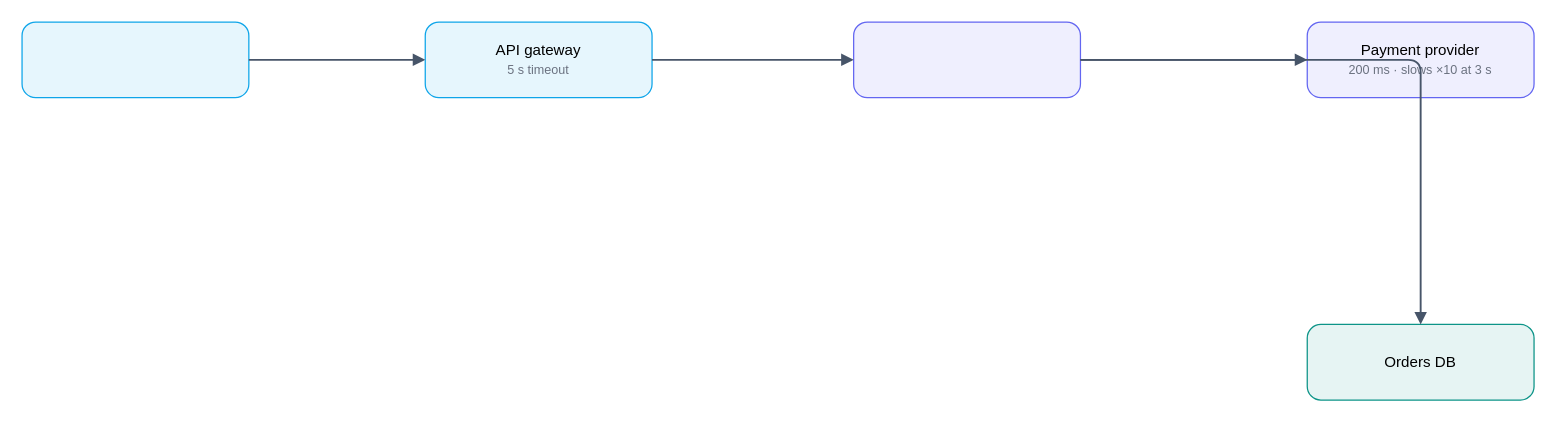
This 1556x422 diagram has some shape labels left out. Here are the shapes that lost their labels. From the top down, the centre of each, then its label:
At (135,59): "Shop".
At (966,59): "Checkout 4 replicas · 25 threads each".
